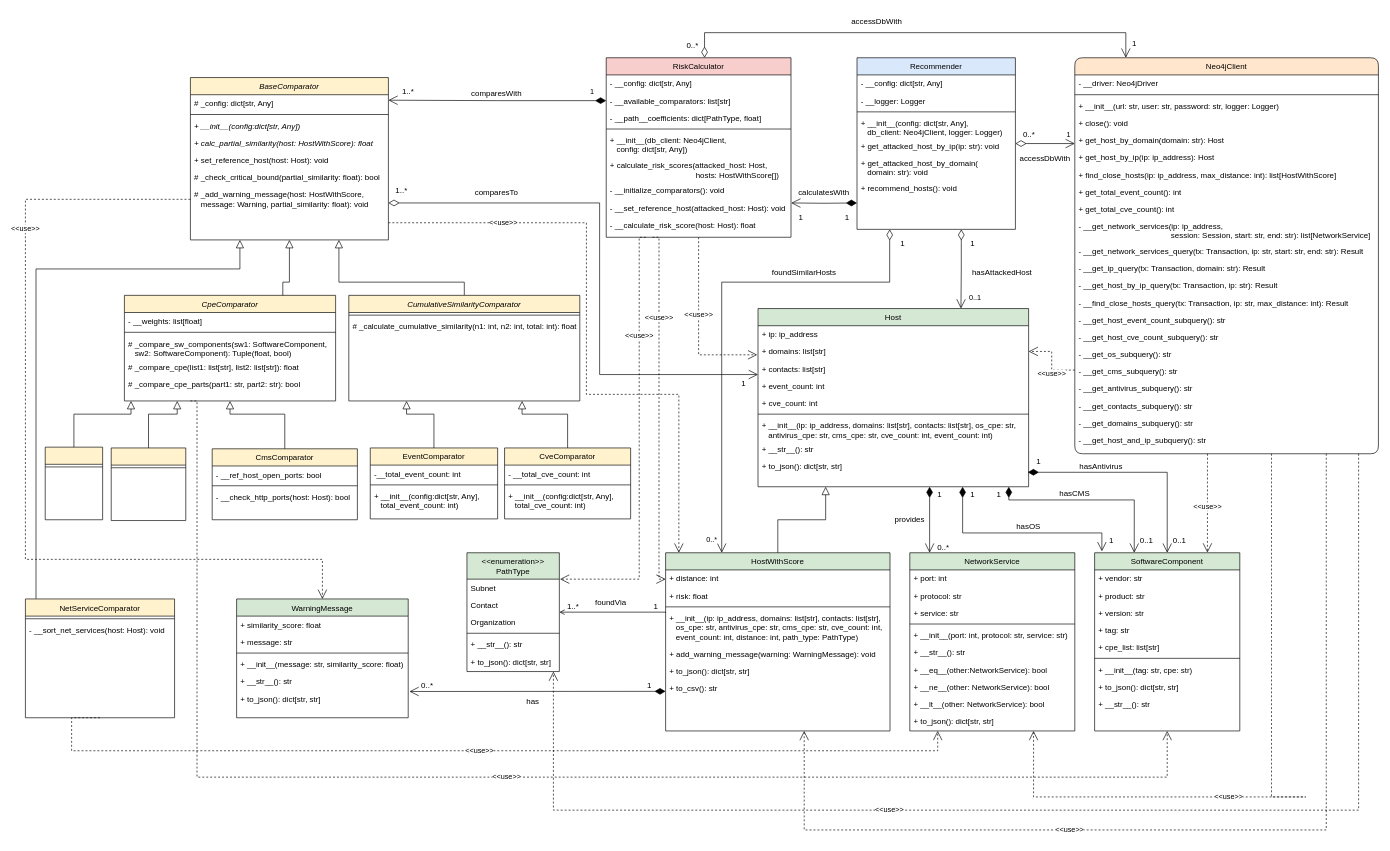
Image size: 1390x851. Some labels were removed from this diagram. The shapes that lost their labels are listed below. From the top down, each one's centre as x and y in pixels, then its label:
(74,483): OsComparator
(148,484): AntivirusComparator
